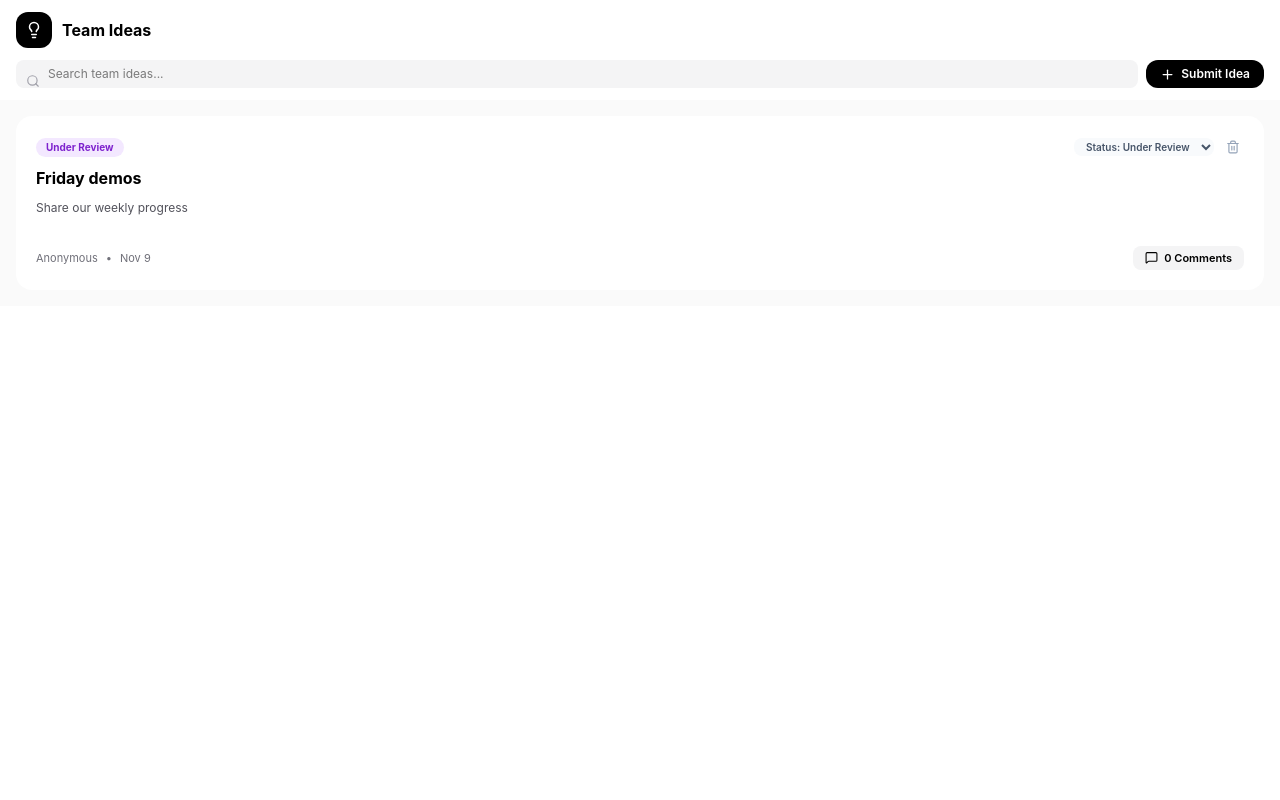
Test: Ideas feedback and recovery › preserves an idea draft and displays the server error when saving fails
Click the button "Submit Idea". click: [1205, 74]
box: [1146, 60, 1264, 88]
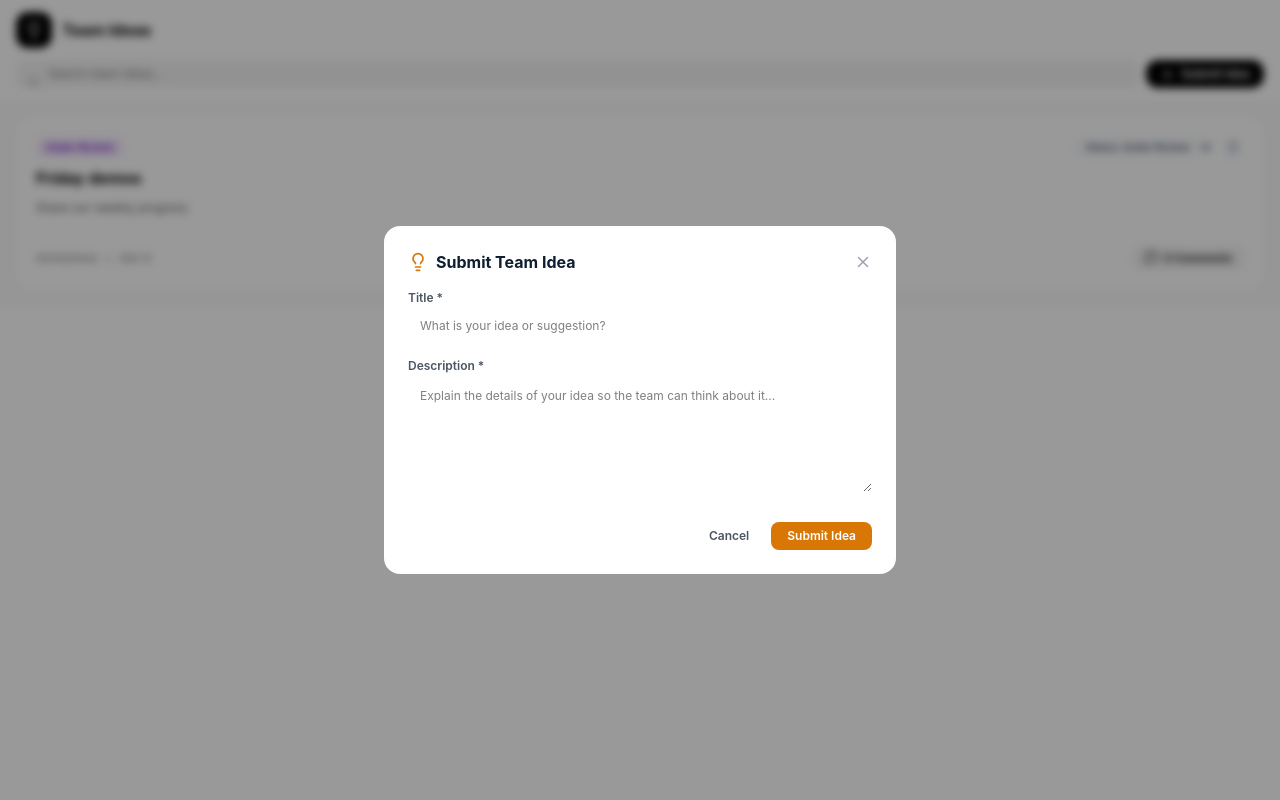
Type "Pair programming" into the field named "Idea title". click: [640, 326]
box: [408, 310, 872, 342]
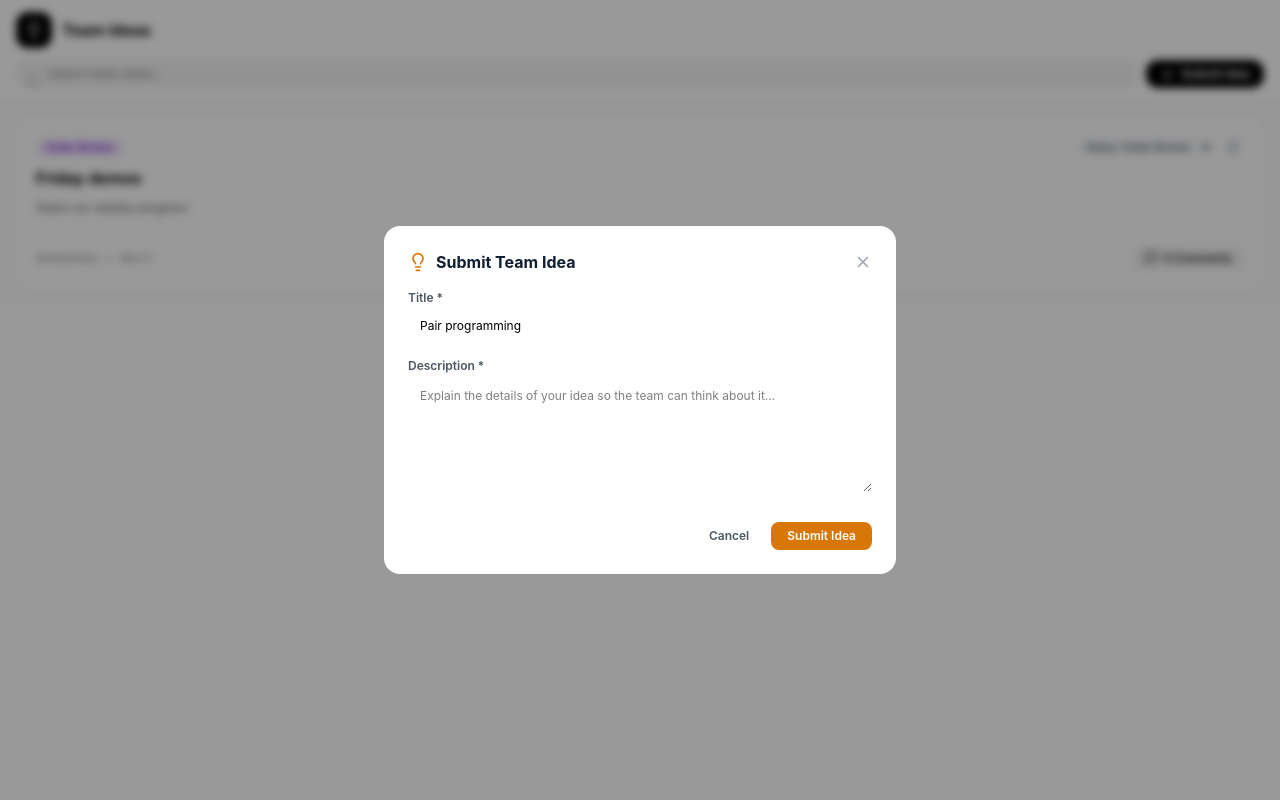
Replace the text in the text box named "Idea description" with "Try shared sessions". click: [640, 435]
box: [408, 378, 872, 492]
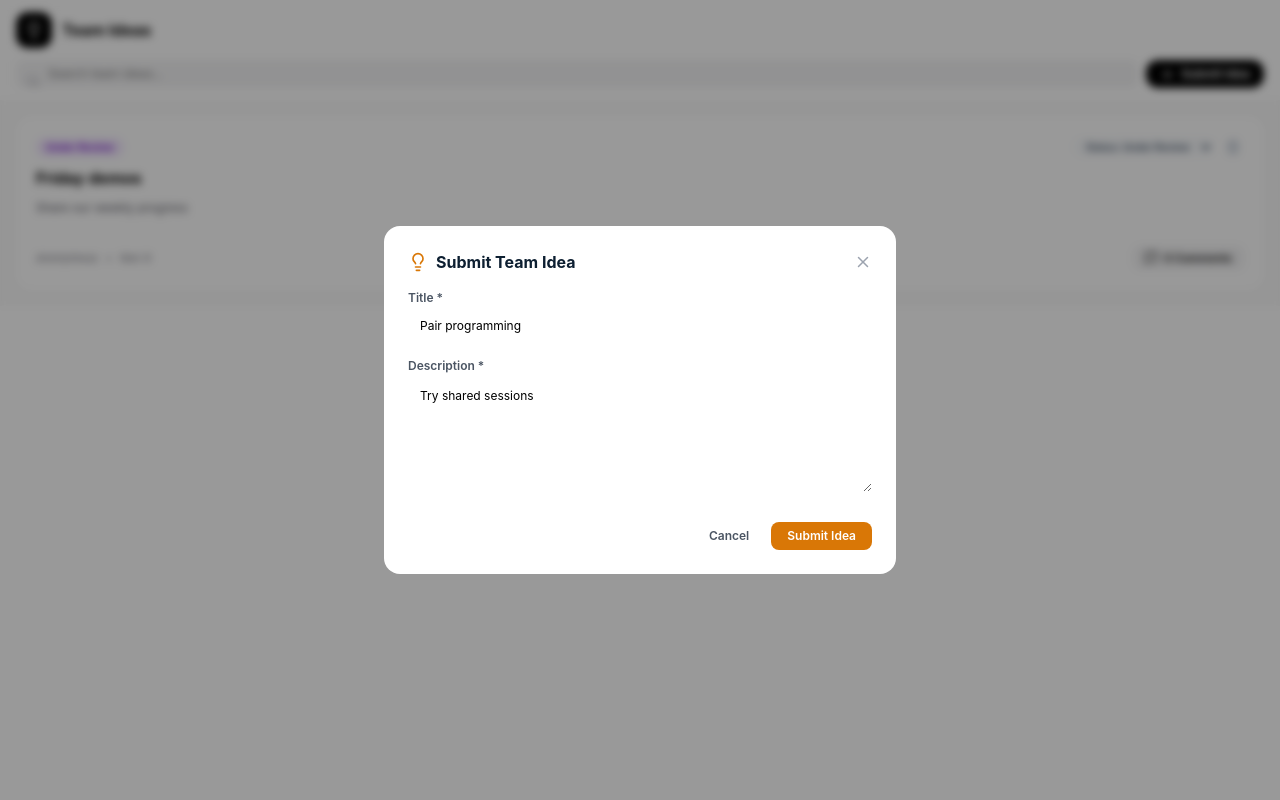
Click the button "Submit Idea". click: [822, 536]
box: [771, 522, 872, 550]
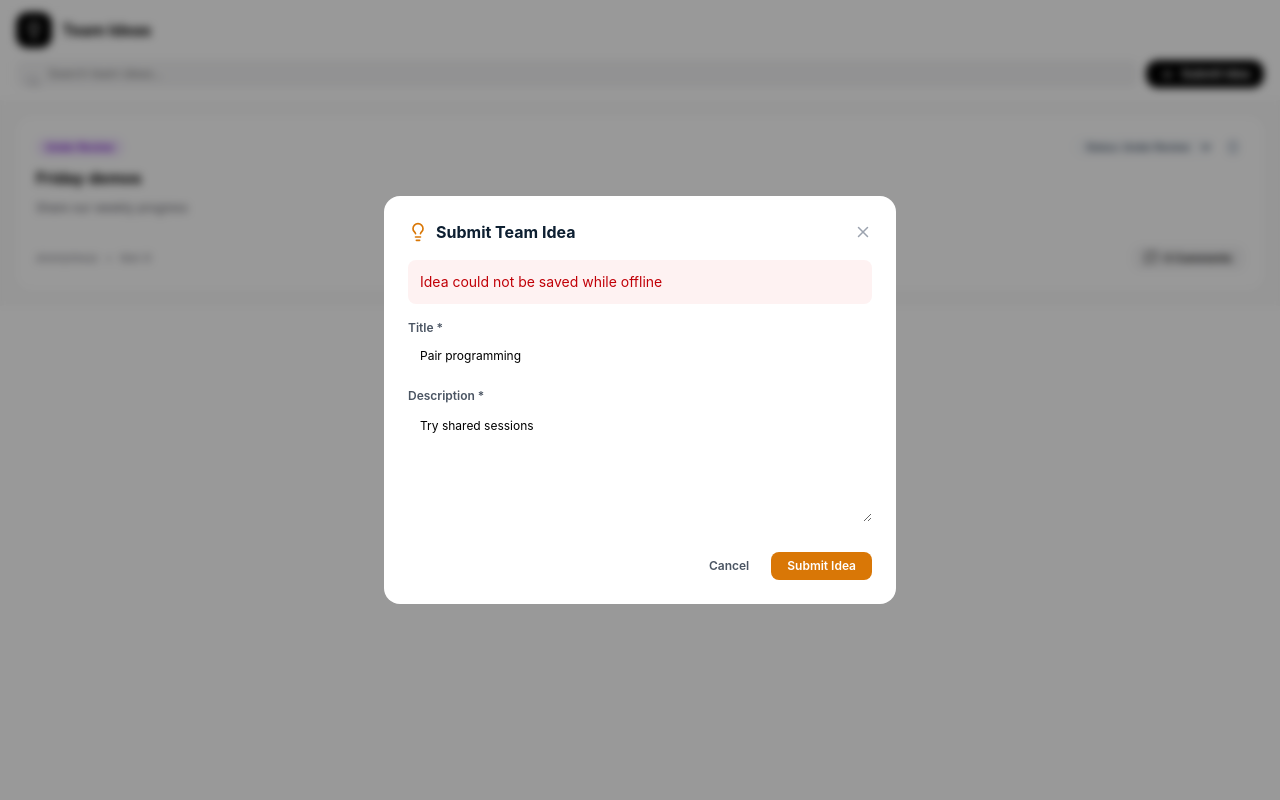
Check: the button "Submit Idea" is enabled, box [771, 552, 872, 580]
Check: the message reads "Idea could not be saved while offline", box [420, 273, 662, 290]
